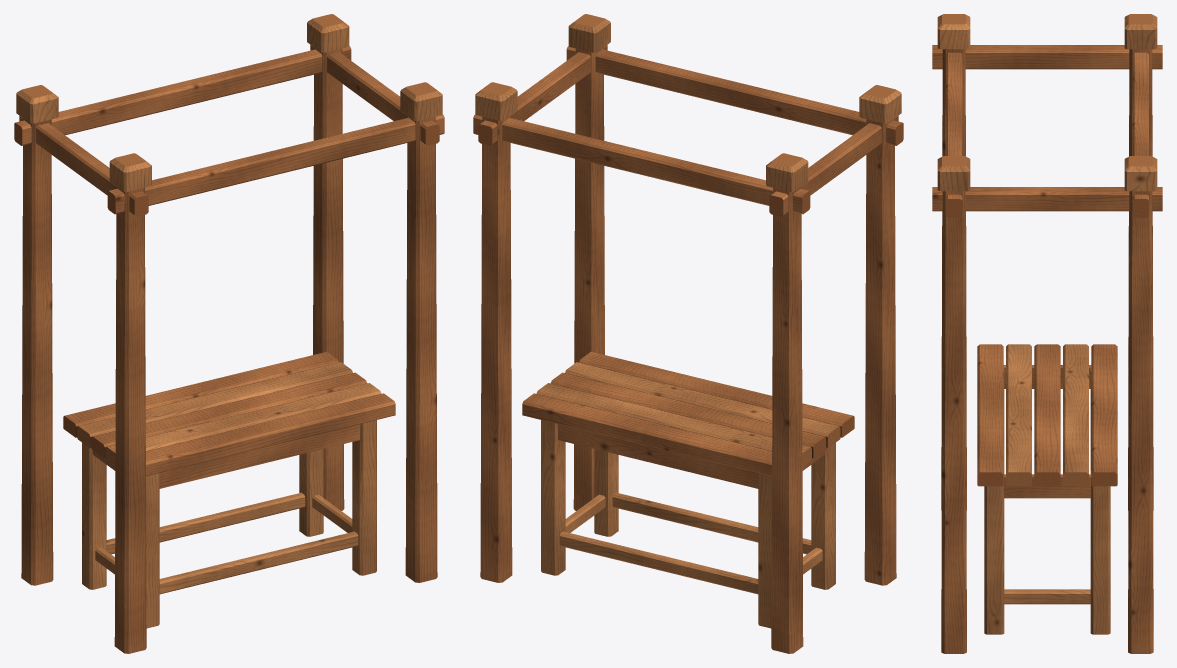
The model's file is FMS_Stall_Table_Open.fbx.
3 renders of one model, left to right at view 1: azimuth 30°, elevation 25°; view 2: azimuth 150°, elevation 25°; view 3: azimuth 270°, elevation 25°, orthographic.
Visible parts, largest first — view 1: item_stalls_table_open; view 2: item_stalls_table_open; view 3: item_stalls_table_open.
Part boxes in pixels (<box>): item_stalls_table_open: <box>14,14,444,653</box>; item_stalls_table_open: <box>473,14,903,653</box>; item_stalls_table_open: <box>932,14,1162,653</box>.
Size of the model in its own units: 1.63 by 2.31 by 0.9884.
1 material, 1 textured.
